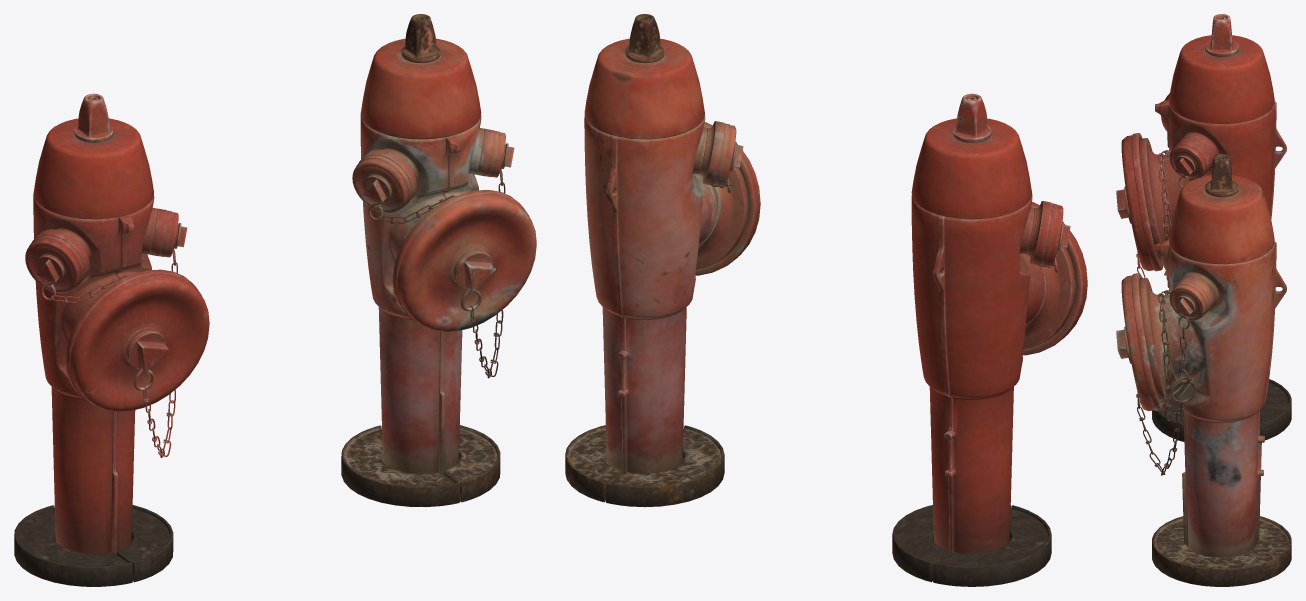
File: fire_hydrant.glb
The picture shows the model from 3 angles, left to right: view 1: azimuth 30°, elevation 25°; view 2: azimuth 150°, elevation 25°; view 3: azimuth 270°, elevation 25°; orthographic projection. The views are drawn at different scales.
Parts seen in each view (by area): view 1: fire_hydrant_aged, fire_hydrant, fire_hydrant_cap_01, fire_hydrant_cap_01_aged, fire_hydrant_cap_03_aged, fire_hydrant_cap_03, fire_hydrant_chain_aged, fire_hydrant_chain, fire_hydrant_cap_02, fire_hydrant_cap_02_aged; view 2: fire_hydrant_aged, fire_hydrant, fire_hydrant_cap_01_aged, fire_hydrant_cap_01, fire_hydrant_cap_03_aged, fire_hydrant_cap_03; view 3: fire_hydrant_aged, fire_hydrant, fire_hydrant_cap_01, fire_hydrant_cap_01_aged, fire_hydrant_chain_aged, fire_hydrant_cap_02_aged, fire_hydrant_cap_02, fire_hydrant_chain.
Part boxes in pixels (bbox=[...]): fire_hydrant_aged: bbox=[341, 14, 500, 506]; fire_hydrant: bbox=[14, 93, 173, 586]; fire_hydrant_cap_01: bbox=[65, 269, 209, 411]; fire_hydrant_cap_01_aged: bbox=[392, 190, 536, 331]; fire_hydrant_cap_03_aged: bbox=[352, 155, 411, 213]; fire_hydrant_cap_03: bbox=[25, 235, 84, 293]; fire_hydrant_chain_aged: bbox=[368, 145, 505, 378]; fire_hydrant_chain: bbox=[41, 224, 178, 457]; fire_hydrant_cap_02: bbox=[159, 210, 187, 257]; fire_hydrant_cap_02_aged: bbox=[486, 130, 514, 177]; fire_hydrant_aged: bbox=[565, 14, 748, 507]; fire_hydrant: bbox=[892, 93, 1075, 586]; fire_hydrant_cap_01_aged: bbox=[695, 122, 760, 275]; fire_hydrant_cap_01: bbox=[1022, 202, 1087, 355]; fire_hydrant_cap_03_aged: bbox=[713, 123, 743, 186]; fire_hydrant_cap_03: bbox=[1041, 203, 1070, 266]; fire_hydrant_aged: bbox=[1139, 154, 1291, 586]; fire_hydrant: bbox=[1139, 14, 1291, 441]; fire_hydrant_cap_01: bbox=[1116, 133, 1162, 271]; fire_hydrant_cap_01_aged: bbox=[1116, 273, 1162, 411]; fire_hydrant_chain_aged: bbox=[1136, 289, 1196, 475]; fire_hydrant_cap_02_aged: bbox=[1169, 281, 1209, 320]; fire_hydrant_cap_02: bbox=[1169, 141, 1209, 180]; fire_hydrant_chain: bbox=[1136, 149, 1194, 279].
Bounding box in the file's own units: 0.8746 × 0.7995 × 0.3177.
2 materials, 2 textured.
